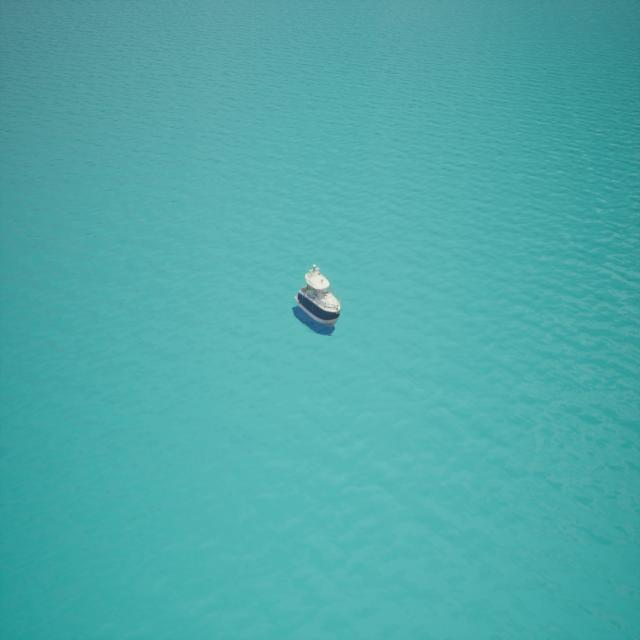ship: (294, 267, 342, 332)
